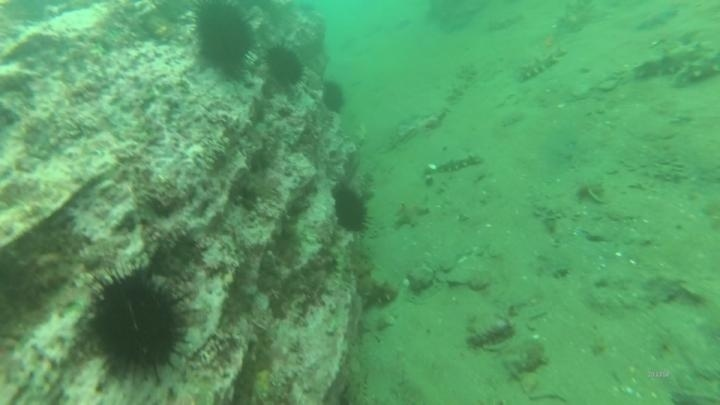echinus: (82, 264, 195, 386), (188, 1, 259, 78), (329, 183, 373, 236), (262, 41, 307, 90), (318, 78, 349, 116)
holothurian: (629, 35, 720, 85), (344, 240, 400, 311), (514, 42, 570, 85), (665, 48, 720, 91), (441, 61, 480, 108), (426, 149, 486, 176)
starfish: (630, 4, 681, 34), (390, 197, 432, 232)
